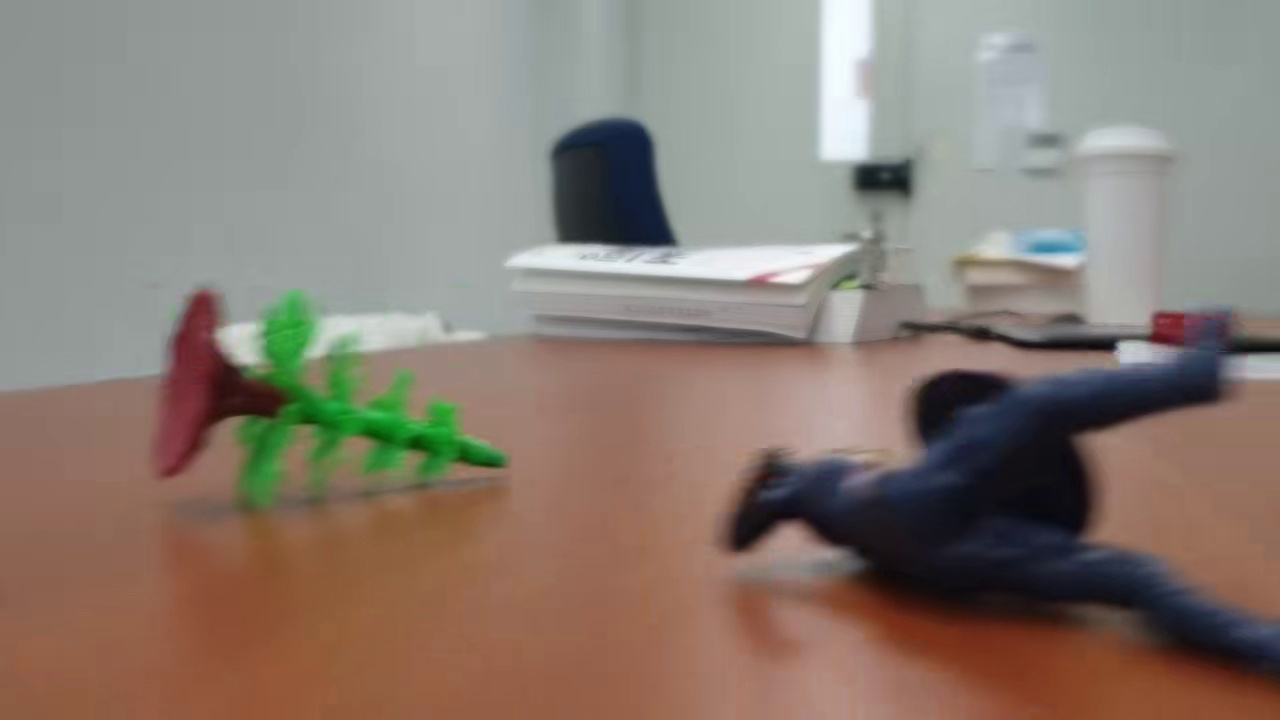people: (721, 311, 1280, 680)
tree: (153, 281, 507, 517)
